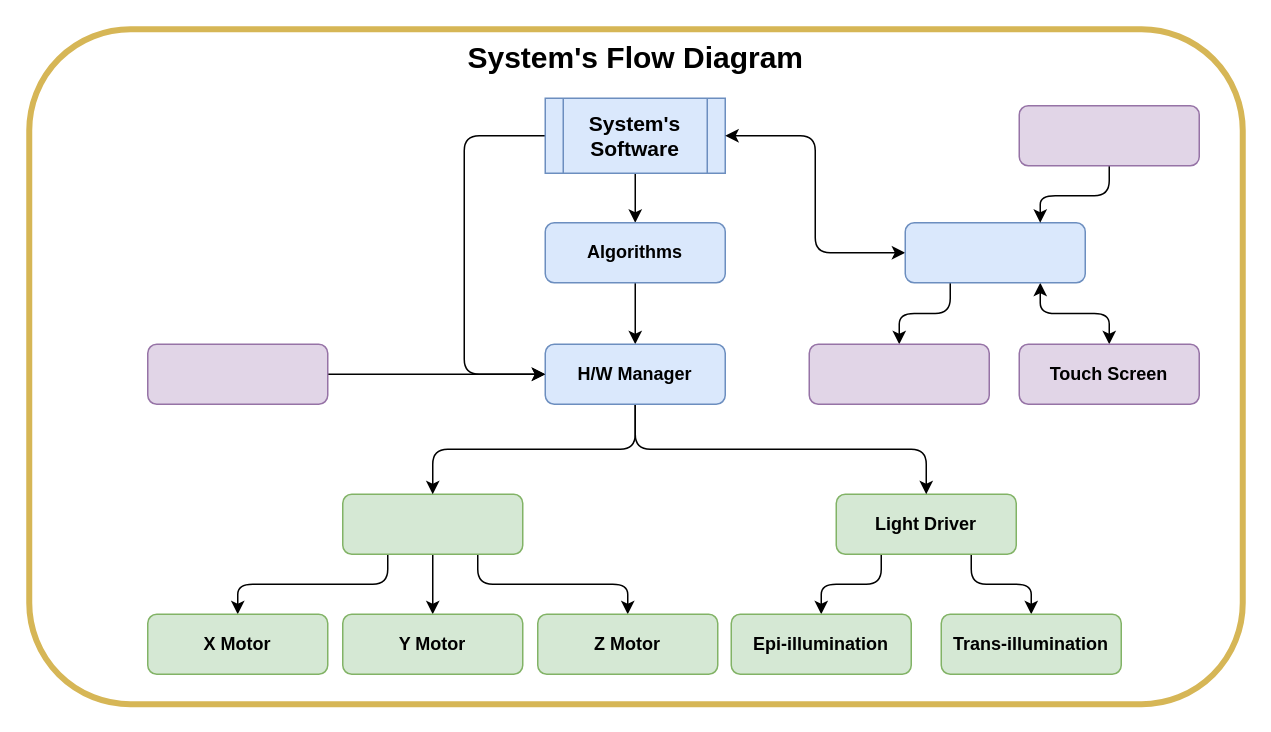
The diagram is 1271 pixels wide and 732 high, and some of its shapes have lost their labels. Here are the shapes that lost their labels. From the top down, the centre of each, then its label:
At pixel 1108 135: "Mouse/Keyboard".
At pixel 994 252: "UI".
At pixel 237 373: "Joystick".
At pixel 898 373: "Screen".
At pixel 432 523: "Motor Driver".
